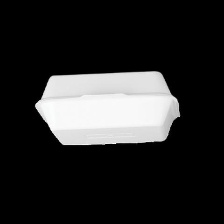foam_box: (29, 66, 190, 153)
